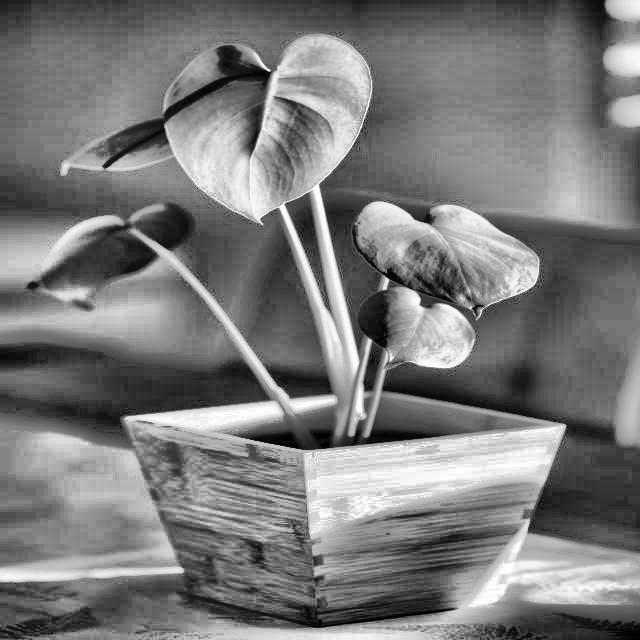plants: (95, 78, 483, 413)
